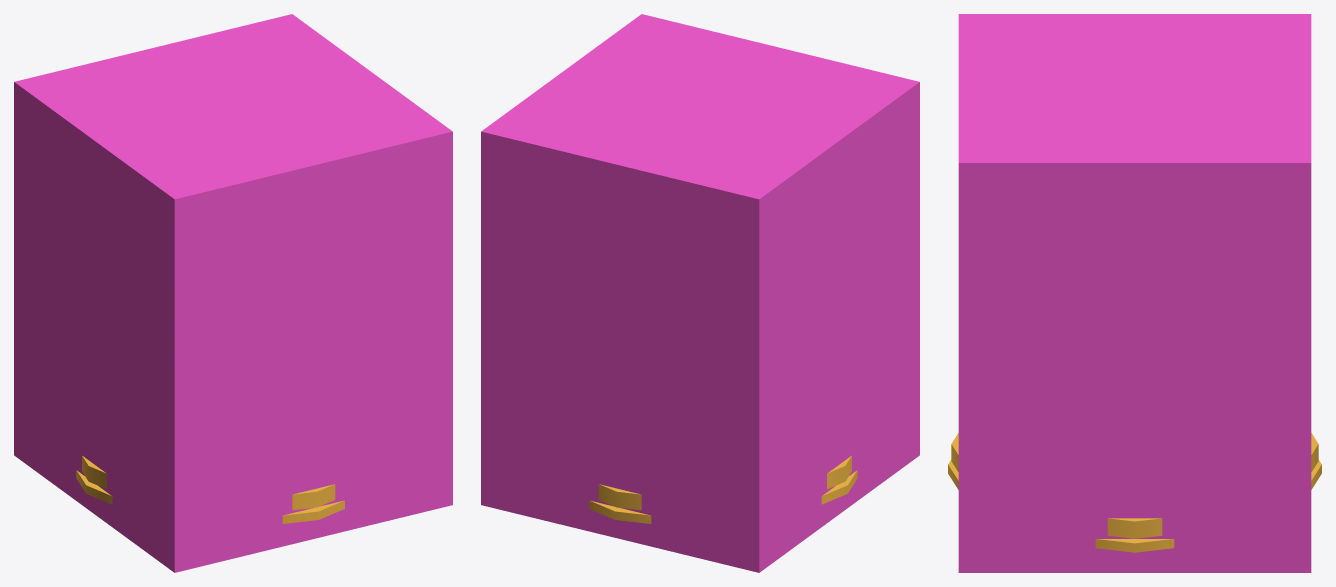
File: missile_launcher_lvl05.glb
3 views of the same model, side by side, from view 1: azimuth 30°, elevation 25°; view 2: azimuth 150°, elevation 25°; view 3: azimuth 270°, elevation 25° (orthographic). The views are drawn at different scales.
Visible parts, largest first — view 1: COL_BOX_BODY, base_mesh; view 2: COL_BOX_BODY, base_mesh; view 3: COL_BOX_BODY, base_mesh.
Part boxes in pixels (x1,y1,x2,y2): COL_BOX_BODY: [14, 14, 452, 572]; base_mesh: [76, 455, 344, 523]; COL_BOX_BODY: [481, 14, 919, 572]; base_mesh: [589, 455, 857, 523]; COL_BOX_BODY: [958, 14, 1311, 572]; base_mesh: [948, 433, 1321, 552].
Bounding box in the file's own units: 1.27 × 1.54 × 1.27.
2 materials, 1 textured.
